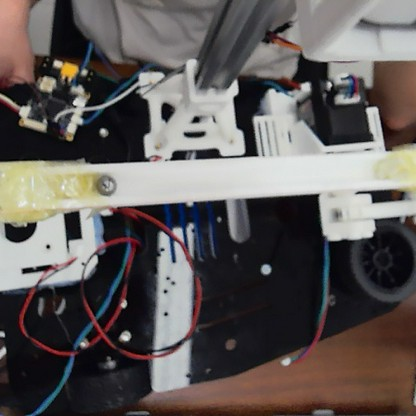ironball: (94, 171, 117, 198)
